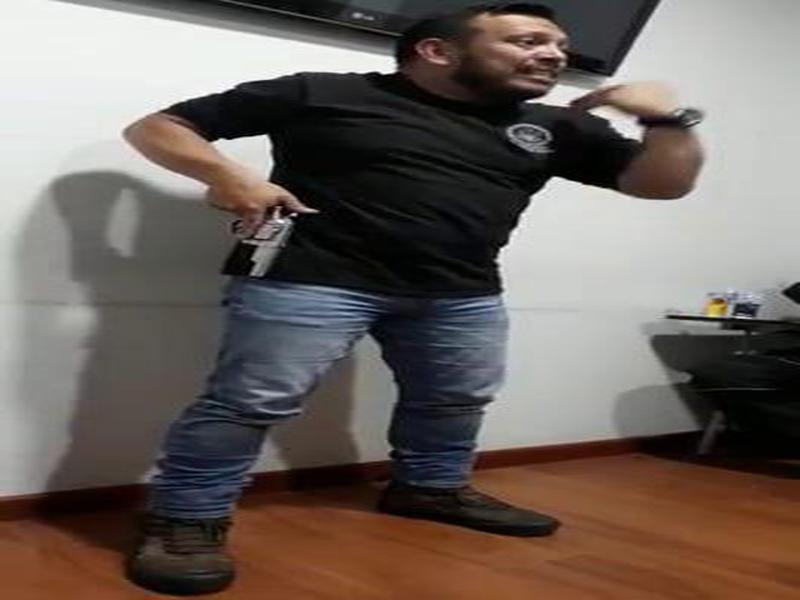Revolver: (230, 173, 309, 299)
